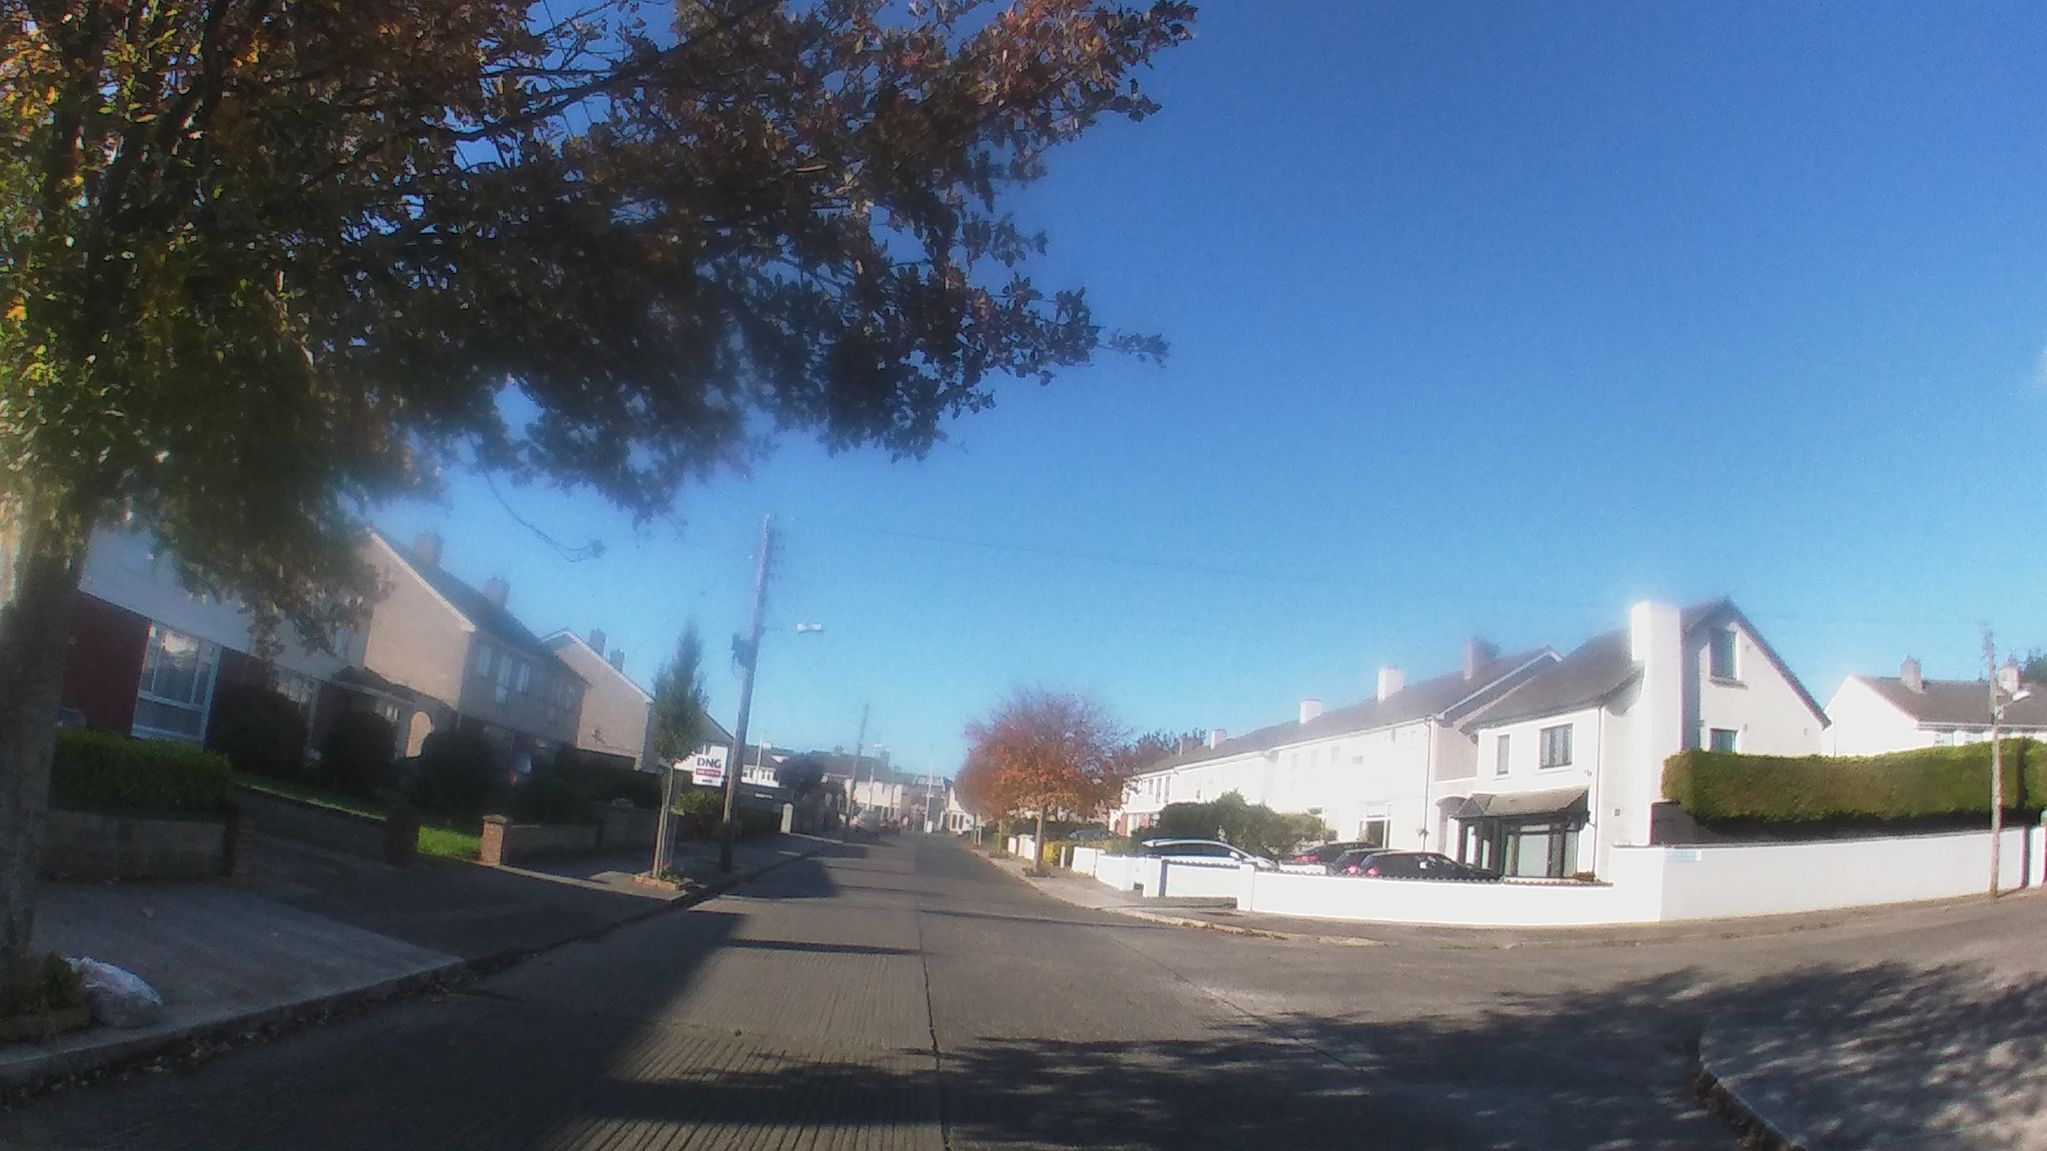property sign: (687, 738, 735, 795)
